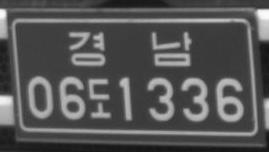0: (26, 74, 55, 120)
1: (115, 75, 139, 121)
3: (180, 76, 210, 123), (146, 75, 175, 122)
6: (215, 76, 245, 124), (58, 74, 86, 121)
경남_D: (67, 30, 193, 68)
도: (87, 76, 113, 119)
